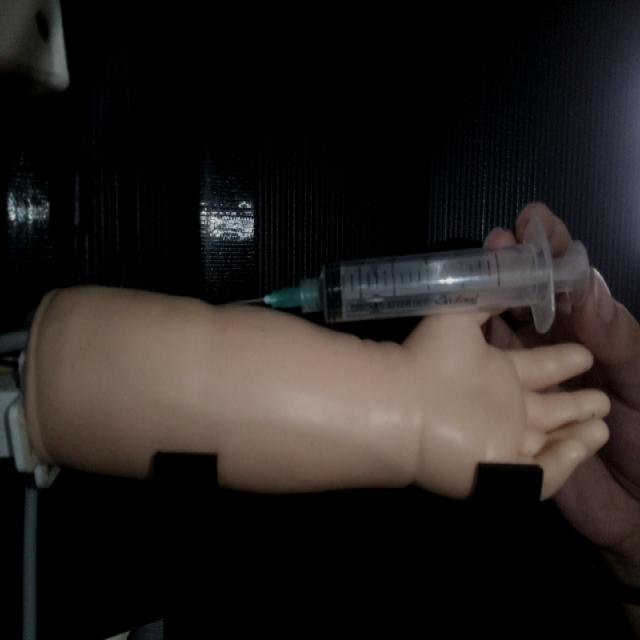Below 15 degrees: (232, 221, 595, 332)
